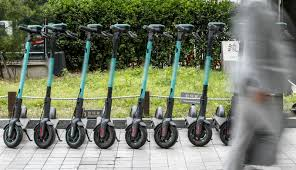kick_handler: (207, 21, 231, 39), (80, 24, 107, 40), (99, 24, 116, 40), (143, 24, 164, 34)
kick_wheel: (155, 121, 178, 148), (125, 122, 149, 146), (189, 121, 212, 146), (93, 121, 115, 147), (33, 122, 54, 146), (65, 122, 85, 145), (4, 124, 22, 146)
